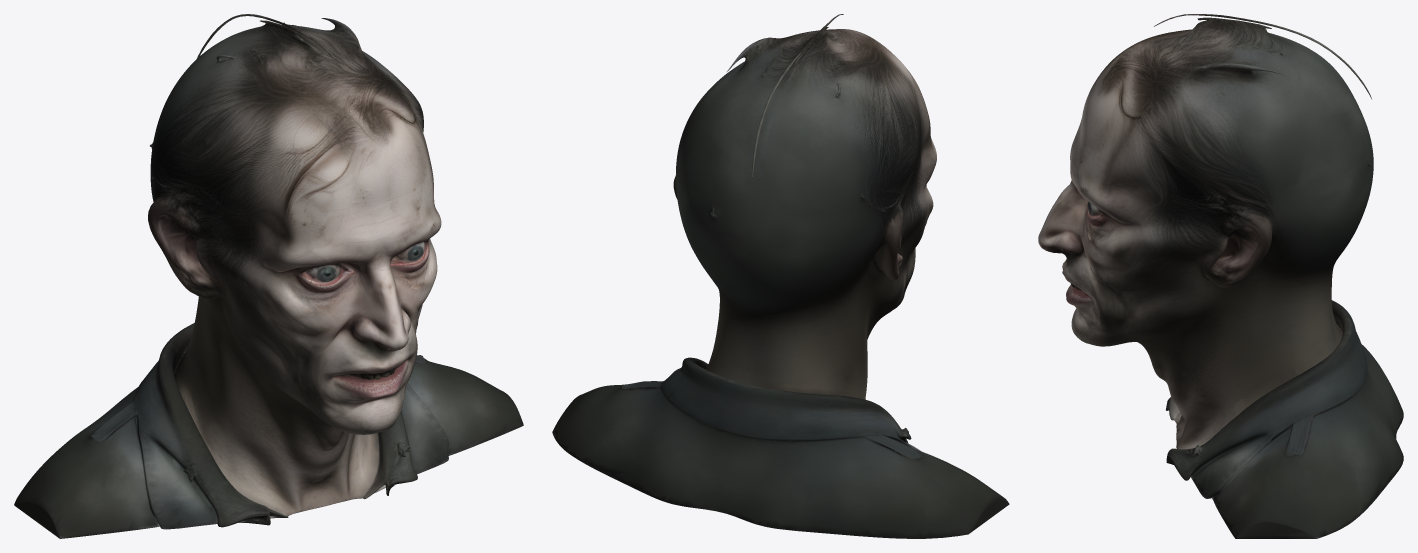
File: watcher_head.glb
3 views of the same model, side by side, from view 1: azimuth 30°, elevation 25°; view 2: azimuth 150°, elevation 25°; view 3: azimuth 270°, elevation 25° (orthographic). The views are drawn at different scales.
Parts seen in each view (by area): view 1: node_0; view 2: node_0; view 3: node_0.
Boxes of the visible parts, x1,y1,x2,y2 form: node_0: (14, 14, 523, 538); node_0: (552, 14, 1009, 538); node_0: (1038, 14, 1403, 538).
Bounding box in the file's own units: 0.8325 × 0.8009 × 0.6321.
1 material, 1 textured.
